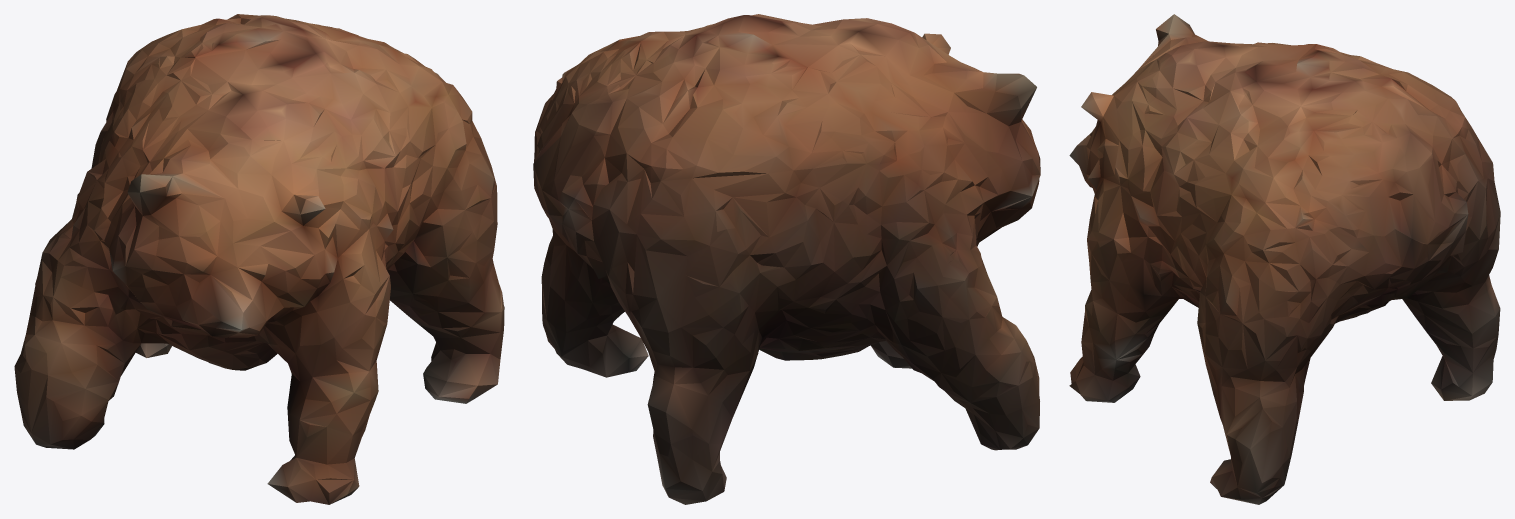
The model's file is bear.glb.
3 renders of one model, left to right at view 1: azimuth 30°, elevation 25°; view 2: azimuth 150°, elevation 25°; view 3: azimuth 270°, elevation 25°, orthographic. The views are drawn at different scales.
Visible parts, largest first — view 1: geometry_0; view 2: geometry_0; view 3: geometry_0.
Boxes of the visible parts, <box> form: geometry_0: <box>14,14,504,504</box>; geometry_0: <box>533,14,1040,504</box>; geometry_0: <box>1069,14,1500,504</box>.
Bounding box in the file's own units: 0.9623 × 0.7338 × 0.8083.
